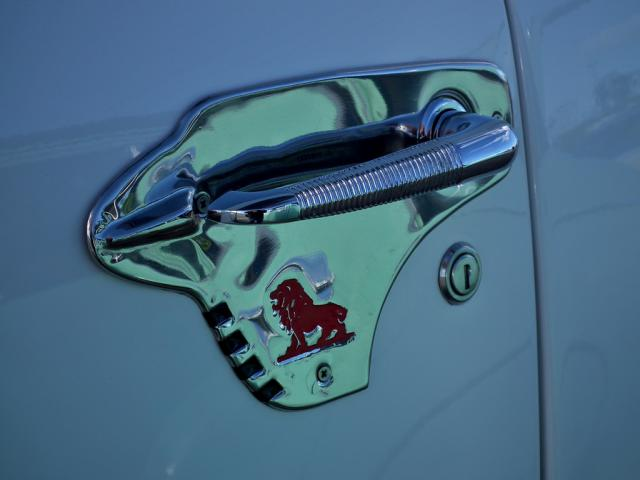Door-handle: (80, 55, 518, 412)
